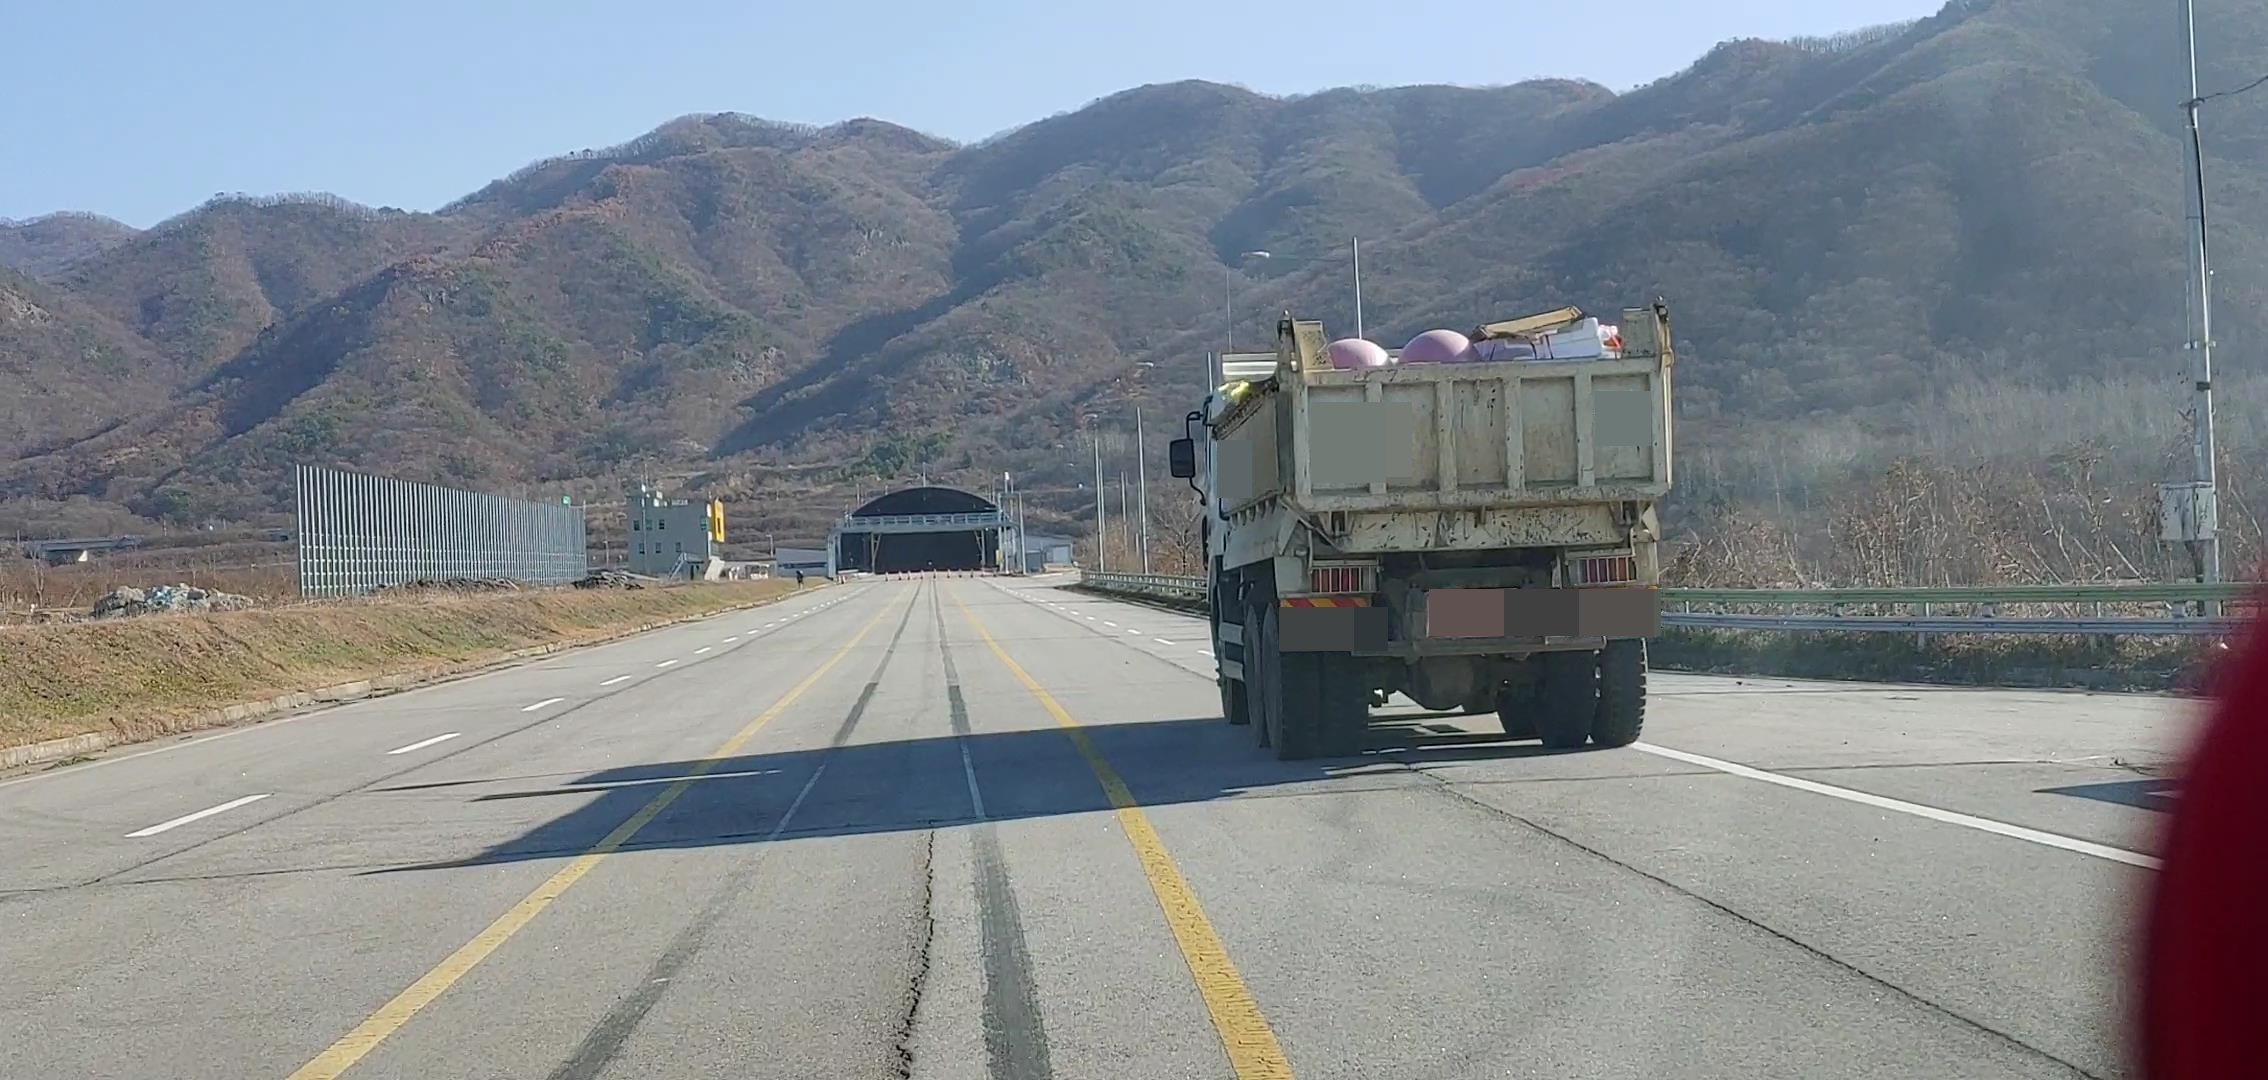불법차량: (1169, 298, 1672, 760)
